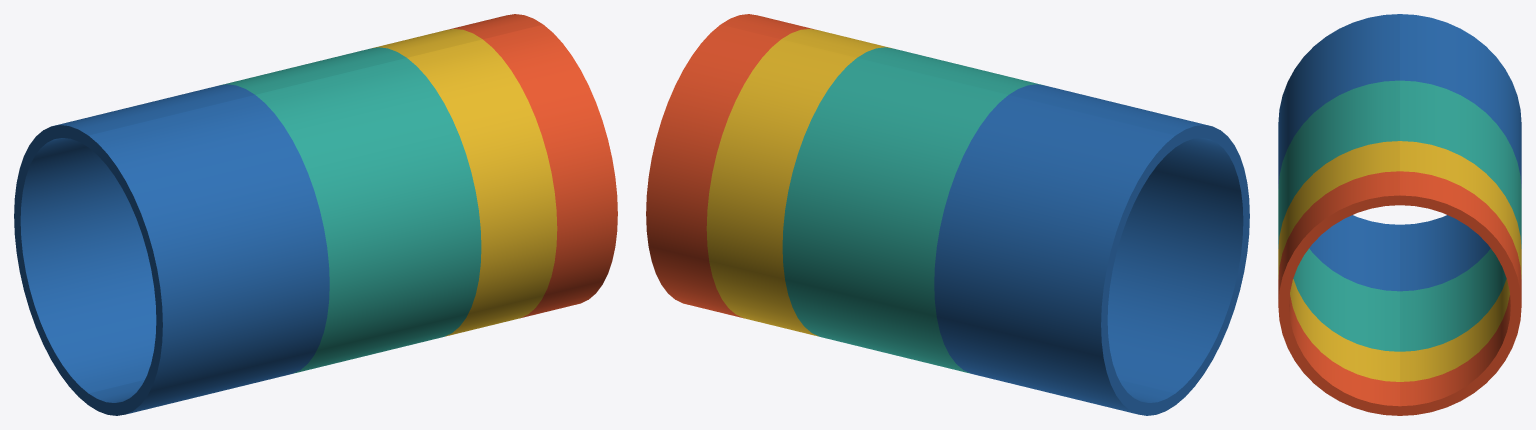
The model's file is dry_screw_vacuum_pump_pressure.glb.
3 views of the same model, side by side, from view 1: azimuth 30°, elevation 25°; view 2: azimuth 150°, elevation 25°; view 3: azimuth 270°, elevation 25° (orthographic). The views are drawn at different scales.
Visible parts, largest first — view 1: bands__front, bands__back; view 2: bands__back, bands__front; view 3: bands__back, bands__front.
Boxes of the visible parts, <box> form: bands__front: <box>88,24,617,415</box>; bands__back: <box>14,14,542,404</box>; bands__back: <box>646,24,1175,415</box>; bands__front: <box>721,14,1249,404</box>; bands__back: <box>1400,14,1521,415</box>; bands__front: <box>1278,14,1399,415</box>.
Bounding box in the file's own units: 0.6 × 0.34 × 0.34.
